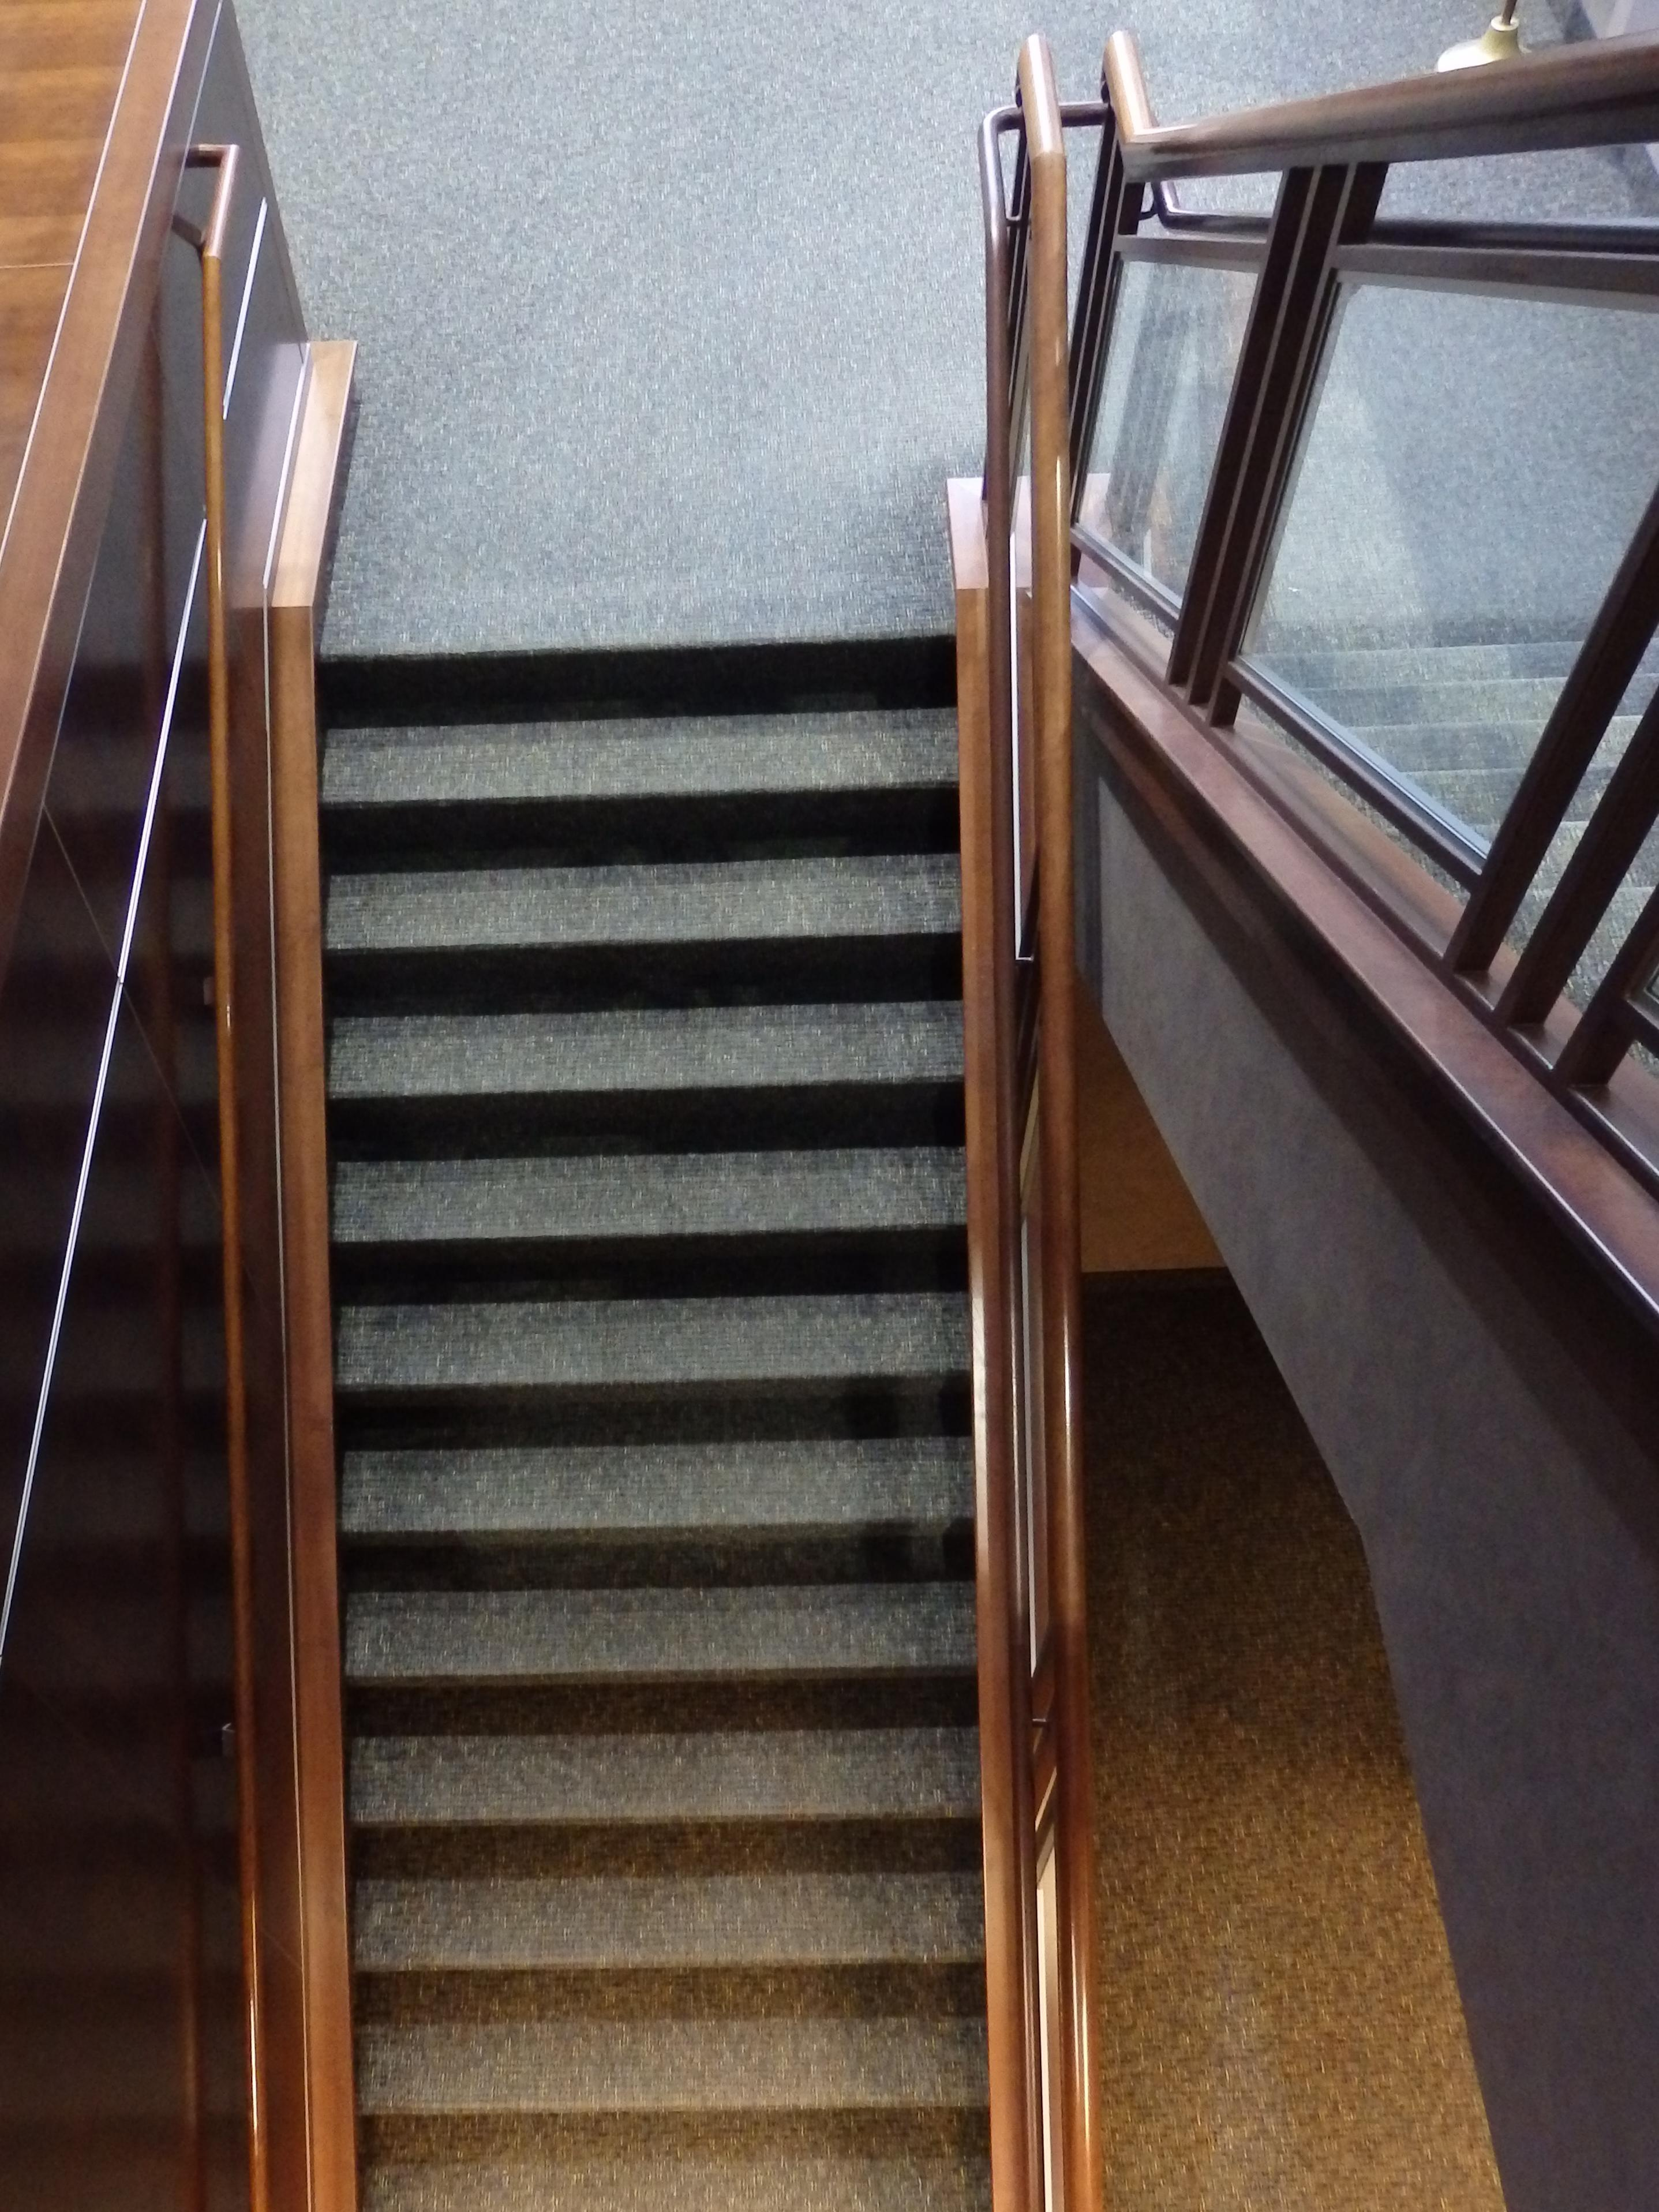stairs_up: (317, 645, 964, 2193)
